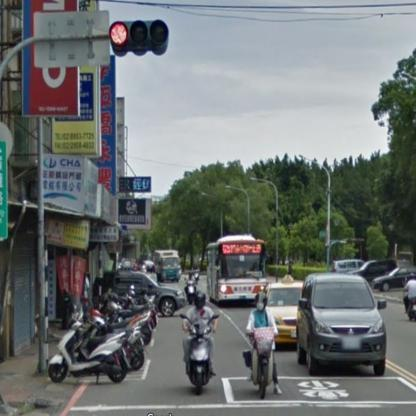Red Light: (108, 18, 171, 56)
